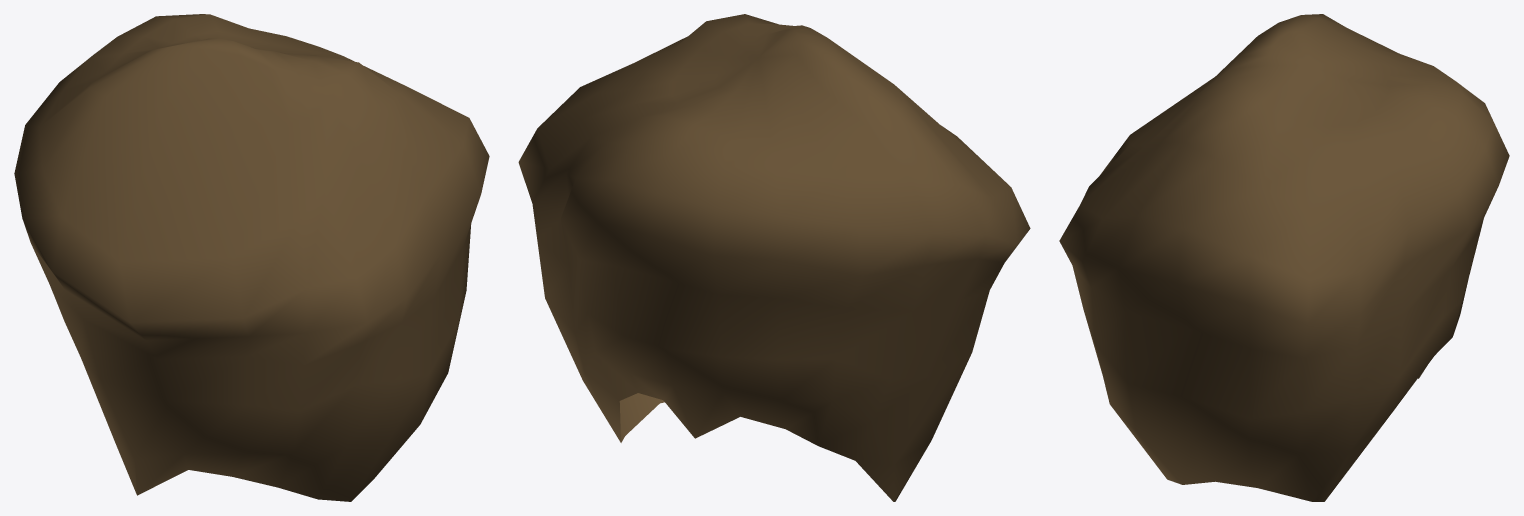
The model's file is hair_afro_1.fbx.
3 views of the same model, side by side, from view 1: azimuth 30°, elevation 25°; view 2: azimuth 150°, elevation 25°; view 3: azimuth 270°, elevation 25° (orthographic). The views are drawn at different scales.
Parts seen in each view (by area): view 1: pSphere20; view 2: pSphere20; view 3: pSphere20.
Boxes of the visible parts, bbox=[...] form: pSphere20: bbox=[14, 14, 489, 501]; pSphere20: bbox=[518, 14, 1030, 501]; pSphere20: bbox=[1059, 14, 1509, 501].
Size of the model in its own units: 3.67 by 3.4 by 3.34.
